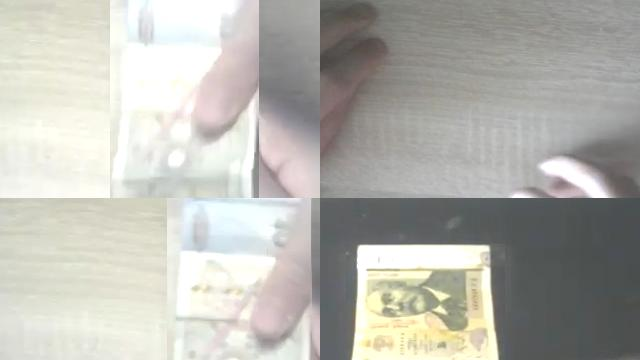10leva: (110, 0, 259, 198), (170, 198, 311, 360), (350, 244, 501, 360)
